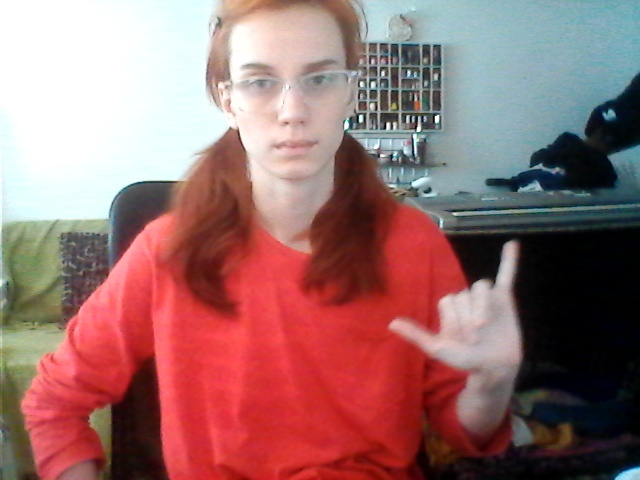kto: (379, 237, 540, 387)
